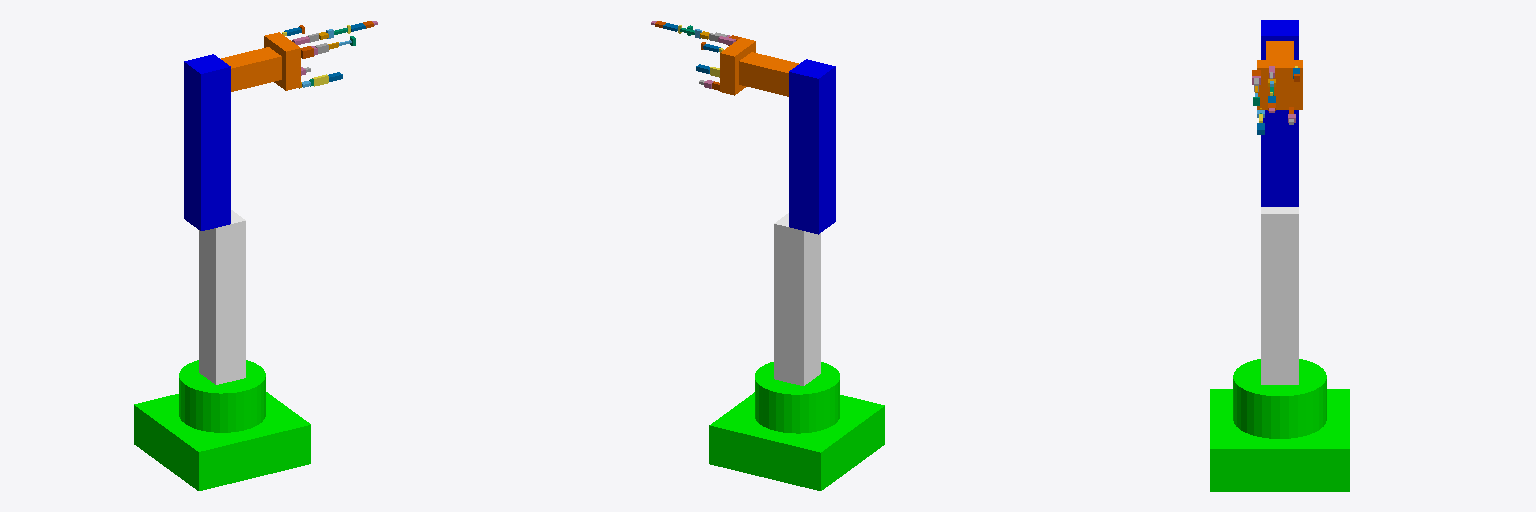
robot.urdf — robot:
<?xml version='1.0' encoding='utf-8'?>
<robot name="robot">
  <link name="base_link">
    <visual>
      <origin xyz="0 0 0.125" rpy="0 0 0" />
      <geometry>
        <box size="0.75 0.75 0.25" />
      </geometry>
      <material name="green" />
    </visual>
    <visual>
      <origin xyz="0 0 0.375" rpy="0 0 0" />
      <geometry>
        <cylinder length="0.25" radius="0.25" />
      </geometry>
      <material name="green">
        <color rgba="0 1 0 1" />
      </material>
    </visual>
    <collision>
      <geometry>
        <box size="0.75 0.75 0.5" />
      </geometry>
    </collision>
    <inertial>
      <mass value="0.5" />
      <inertia ixx="0.034" ixy="0.0" ixz="0.0" iyy="0.034" iyz="0.0" izz="0.034" />
    </inertial>
  </link>
  <link name="support_link">
    <visual>
      <origin xyz="0 0 0.5" rpy="0 0 0" />
      <geometry>
        <box size="0.2 0.2 1" />
      </geometry>
      <material name="white">
        <color rgba="1 1 1 1" />
      </material>
    </visual>
    <collision>
      <geometry>
        <box size="0.2 0.2 1" />
      </geometry>
    </collision>
    <inertial>
      <mass value="0.1" />
      <inertia ixx="0.01" ixy="0.0" ixz="0.0" iyy="0.01" iyz="0.0" izz="0.01" />
    </inertial>
  </link>
  <joint name="support_joint" type="continuous">
    <origin xyz="0 0 0.5" rpy="0 0 0" />
    <parent link="base_link" />
    <child link="support_link" />
    <axis xyz="0 0 1" />
  </joint>
  <link name="arm_link">
    <visual>
      <origin xyz="0 0 0.5" rpy="0 0 0" />
      <geometry>
        <box size="0.2 0.2 1" />
      </geometry>
      <material name="blue">
        <color rgba="0 0 1 1" />
      </material>
    </visual>
    <collision>
      <geometry>
        <box size="0.2 0.2 1" />
      </geometry>
    </collision>
    <inertial>
      <mass value="0.1" />
      <inertia ixx="0.01" ixy="0.0" ixz="0.0" iyy="0.01" iyz="0.0" izz="0.01" />
    </inertial>
  </link>
  <joint name="arm_joint" type="revolute">
    <origin xyz="-0.1 0 1" rpy="0 0 0" />
    <parent link="support_link" />
    <child link="arm_link" />
    <axis xyz="0 1 0" />
    <limit lower="-3.14" upper="3.14" effort="1.0" velocity="1.0" />
  </joint>
  <link name="wrist_link">
    <visual>
      <origin xyz="0 0 0.25" rpy="0 0 0" />
      <geometry>
        <box size="0.15 0.15 0.5" />
      </geometry>
      <material name="orange">
        <color rgba="1 0.5 0 1" />
      </material>
    </visual>
    <collision>
      <geometry>
        <box size="0.15 0.15 0.5" />
      </geometry>
    </collision>
    <inertial>
      <mass value="0.1" />
      <inertia ixx="0.01" ixy="0.0" ixz="0.0" iyy="0.01" iyz="0.0" izz="0.01" />
    </inertial>
  </link>
  <joint name="wrist_joint" type="fixed">
    <origin xyz="0 0 0.9" rpy="0 1.571 0" />
    <parent link="arm_link" />
    <child link="wrist_link" />
  </joint>
  <link name="palm_link">
    <visual>
      <origin xyz="0 0 0.05" rpy="0 0 0" />
      <geometry>
        <box size="0.25 0.25 0.1" />
      </geometry>
      <material name="orange" />
    </visual>
    <collision>
      <geometry>
        <box size="0.25 0.25 0.1" />
      </geometry>
    </collision>
    <inertial>
      <mass value="0.1" />
      <inertia ixx="0.01" ixy="0.0" ixz="0.0" iyy="0.01" iyz="0.0" izz="0.01" />
    </inertial>
  </link>
  <joint name="palm_joint" type="fixed">
    <origin xyz="0 0 0.45" rpy="0 0 0" />
    <parent link="wrist_link" />
    <child link="palm_link" />
  </joint>
  <link name="finger_link_0_0">
    <visual>
      <origin xyz="0 0 0.0405" rpy="0 0 0" />
      <geometry>
        <box size="0.038 0.026 0.081" />
      </geometry>
    </visual>
    <collision>
      <geometry>
        <box size="0.038 0.026 0.081" />
      </geometry>
    </collision>
    <inertial>
      <mass value="0.024" />
      <inertia ixx="0.0" iyy="0.0" izz="0.0" ixy="0" ixz="0" iyz="0" />
    </inertial>
  </link>
  <joint name="finger_joint_palm_link_to_finger_link_0_0" type="revolute">
    <origin xyz="0.125 0.063 0.1" rpy="0 0 0" />
    <parent link="palm_link" />
    <child link="finger_link_0_0" />
    <axis xyz="0.0 1.0 0.0" />
    <limit lower="-3.142" upper="3.142" effort="10" velocity="10" />
  </joint>
  <link name="finger_link_0_1">
    <visual>
      <origin xyz="0 0 0.024" rpy="0 0 0" />
      <geometry>
        <box size="0.03 0.046 0.048" />
      </geometry>
    </visual>
    <collision>
      <geometry>
        <box size="0.03 0.046 0.048" />
      </geometry>
    </collision>
    <inertial>
      <mass value="0.02" />
      <inertia ixx="0.0" iyy="0.0" izz="0.0" ixy="0" ixz="0" iyz="0" />
    </inertial>
  </link>
  <joint name="finger_joint_finger_link_0_0_to_finger_link_0_1" type="revolute">
    <origin xyz="0.0 0.0 0.081" rpy="0 0 0" />
    <parent link="finger_link_0_0" />
    <child link="finger_link_0_1" />
    <axis xyz="0.0 1.0 0.0" />
    <limit lower="-3.142" upper="3.142" effort="10" velocity="10" />
  </joint>
  <link name="finger_link_0_2">
    <visual>
      <origin xyz="0 0 0.0195" rpy="0 0 0" />
      <geometry>
        <box size="0.017 0.026 0.039" />
      </geometry>
    </visual>
    <collision>
      <geometry>
        <box size="0.017 0.026 0.039" />
      </geometry>
    </collision>
    <inertial>
      <mass value="0.005" />
      <inertia ixx="0.0" iyy="0.0" izz="0.0" ixy="0" ixz="0" iyz="0" />
    </inertial>
  </link>
  <joint name="finger_joint_finger_link_0_1_to_finger_link_0_2" type="revolute">
    <origin xyz="0.0 0.0 0.048" rpy="0 0 0" />
    <parent link="finger_link_0_1" />
    <child link="finger_link_0_2" />
    <axis xyz="1.0 0.0 0.0" />
    <limit lower="-3.142" upper="3.142" effort="10" velocity="10" />
  </joint>
  <link name="finger_link_1_0">
    <visual>
      <origin xyz="0 0 0.0095" rpy="0 0 0" />
      <geometry>
        <box size="0.032 0.013 0.019" />
      </geometry>
    </visual>
    <collision>
      <geometry>
        <box size="0.032 0.013 0.019" />
      </geometry>
    </collision>
    <inertial>
      <mass value="0.002" />
      <inertia ixx="0.0" iyy="0.0" izz="0.0" ixy="0" ixz="0" iyz="0" />
    </inertial>
  </link>
  <joint name="finger_joint_palm_link_to_finger_link_1_0" type="revolute">
    <origin xyz="0.125 -0.101 0.1" rpy="0 0 0" />
    <parent link="palm_link" />
    <child link="finger_link_1_0" />
    <axis xyz="0.0 1.0 0.0" />
    <limit lower="-3.142" upper="3.142" effort="10" velocity="10" />
  </joint>
  <link name="finger_link_1_1">
    <visual>
      <origin xyz="0 0 0.0265" rpy="0 0 0" />
      <geometry>
        <box size="0.019 0.039 0.053" />
      </geometry>
    </visual>
    <collision>
      <geometry>
        <box size="0.019 0.039 0.053" />
      </geometry>
    </collision>
    <inertial>
      <mass value="0.012" />
      <inertia ixx="0.0" iyy="0.0" izz="0.0" ixy="0" ixz="0" iyz="0" />
    </inertial>
  </link>
  <joint name="finger_joint_finger_link_1_0_to_finger_link_1_1" type="revolute">
    <origin xyz="0.0 0.0 0.019" rpy="0 0 0" />
    <parent link="finger_link_1_0" />
    <child link="finger_link_1_1" />
    <axis xyz="0.0 1.0 0.0" />
    <limit lower="-3.142" upper="3.142" effort="10" velocity="10" />
  </joint>
  <link name="finger_link_1_2">
    <visual>
      <origin xyz="0 0 0.012" rpy="0 0 0" />
      <geometry>
        <box size="0.041 0.011 0.024" />
      </geometry>
    </visual>
    <collision>
      <geometry>
        <box size="0.041 0.011 0.024" />
      </geometry>
    </collision>
    <inertial>
      <mass value="0.003" />
      <inertia ixx="0.0" iyy="0.0" izz="0.0" ixy="0" ixz="0" iyz="0" />
    </inertial>
  </link>
  <joint name="finger_joint_finger_link_1_1_to_finger_link_1_2" type="revolute">
    <origin xyz="0.0 0.0 0.053" rpy="0 0 0" />
    <parent link="finger_link_1_1" />
    <child link="finger_link_1_2" />
    <axis xyz="0.0 1.0 0.0" />
    <limit lower="-3.142" upper="3.142" effort="10" velocity="10" />
  </joint>
  <link name="finger_link_1_3">
    <visual>
      <origin xyz="0 0 0.0475" rpy="0 0 0" />
      <geometry>
        <box size="0.048 0.022 0.095" />
      </geometry>
    </visual>
    <collision>
      <geometry>
        <box size="0.048 0.022 0.095" />
      </geometry>
    </collision>
    <inertial>
      <mass value="0.03" />
      <inertia ixx="0.0" iyy="0.0" izz="0.0" ixy="0" ixz="0" iyz="0" />
    </inertial>
  </link>
  <joint name="finger_joint_finger_link_1_2_to_finger_link_1_3" type="revolute">
    <origin xyz="0.0 0.0 0.024" rpy="0 0 0" />
    <parent link="finger_link_1_2" />
    <child link="finger_link_1_3" />
    <axis xyz="1.0 0.0 0.0" />
    <limit lower="-3.142" upper="3.142" effort="10" velocity="10" />
  </joint>
  <link name="finger_link_1_4">
    <visual>
      <origin xyz="0 0 0.044" rpy="0 0 0" />
      <geometry>
        <box size="0.029 0.039 0.088" />
      </geometry>
    </visual>
    <collision>
      <geometry>
        <box size="0.029 0.039 0.088" />
      </geometry>
    </collision>
    <inertial>
      <mass value="0.03" />
      <inertia ixx="0.0" iyy="0.0" izz="0.0" ixy="0" ixz="0" iyz="0" />
    </inertial>
  </link>
  <joint name="finger_joint_finger_link_1_3_to_finger_link_1_4" type="revolute">
    <origin xyz="0.0 0.0 0.095" rpy="0 0 0" />
    <parent link="finger_link_1_3" />
    <child link="finger_link_1_4" />
    <axis xyz="0.0 1.0 0.0" />
    <limit lower="-3.142" upper="3.142" effort="10" velocity="10" />
  </joint>
  <link name="finger_link_2_0">
    <visual>
      <origin xyz="0 0 0.0365" rpy="0 0 0" />
      <geometry>
        <box size="0.049 0.046 0.073" />
      </geometry>
    </visual>
    <collision>
      <geometry>
        <box size="0.049 0.046 0.073" />
      </geometry>
    </collision>
    <inertial>
      <mass value="0.049" />
      <inertia ixx="0.0" iyy="0.0" izz="0.0" ixy="0" ixz="0" iyz="0" />
    </inertial>
  </link>
  <joint name="finger_joint_palm_link_to_finger_link_2_0" type="revolute">
    <origin xyz="-0.088 -0.125 0.1" rpy="0 0 0" />
    <parent link="palm_link" />
    <child link="finger_link_2_0" />
    <axis xyz="1.0 0.0 0.0" />
    <limit lower="-3.142" upper="3.142" effort="10" velocity="10" />
  </joint>
  <link name="finger_link_2_1">
    <visual>
      <origin xyz="0 0 0.0125" rpy="0 0 0" />
      <geometry>
        <box size="0.041 0.043 0.025" />
      </geometry>
    </visual>
    <collision>
      <geometry>
        <box size="0.041 0.043 0.025" />
      </geometry>
    </collision>
    <inertial>
      <mass value="0.013" />
      <inertia ixx="0.0" iyy="0.0" izz="0.0" ixy="0" ixz="0" iyz="0" />
    </inertial>
  </link>
  <joint name="finger_joint_finger_link_2_0_to_finger_link_2_1" type="revolute">
    <origin xyz="0.0 0.0 0.073" rpy="0 0 0" />
    <parent link="finger_link_2_0" />
    <child link="finger_link_2_1" />
    <axis xyz="0.0 1.0 0.0" />
    <limit lower="-3.142" upper="3.142" effort="10" velocity="10" />
  </joint>
  <link name="finger_link_2_2">
    <visual>
      <origin xyz="0 0 0.0385" rpy="0 0 0" />
      <geometry>
        <box size="0.045 0.029 0.077" />
      </geometry>
    </visual>
    <collision>
      <geometry>
        <box size="0.045 0.029 0.077" />
      </geometry>
    </collision>
    <inertial>
      <mass value="0.03" />
      <inertia ixx="0.0" iyy="0.0" izz="0.0" ixy="0" ixz="0" iyz="0" />
    </inertial>
  </link>
  <joint name="finger_joint_finger_link_2_1_to_finger_link_2_2" type="revolute">
    <origin xyz="0.0 0.0 0.025" rpy="0 0 0" />
    <parent link="finger_link_2_1" />
    <child link="finger_link_2_2" />
    <axis xyz="0.0 1.0 0.0" />
    <limit lower="-3.142" upper="3.142" effort="10" velocity="10" />
  </joint>
  <link name="finger_link_2_3">
    <visual>
      <origin xyz="0 0 0.038" rpy="0 0 0" />
      <geometry>
        <box size="0.029 0.012 0.076" />
      </geometry>
    </visual>
    <collision>
      <geometry>
        <box size="0.029 0.012 0.076" />
      </geometry>
    </collision>
    <inertial>
      <mass value="0.008" />
      <inertia ixx="0.0" iyy="0.0" izz="0.0" ixy="0" ixz="0" iyz="0" />
    </inertial>
  </link>
  <joint name="finger_joint_finger_link_2_2_to_finger_link_2_3" type="revolute">
    <origin xyz="0.0 0.0 0.077" rpy="0 0 0" />
    <parent link="finger_link_2_2" />
    <child link="finger_link_2_3" />
    <axis xyz="1.0 0.0 0.0" />
    <limit lower="-3.142" upper="3.142" effort="10" velocity="10" />
  </joint>
  <link name="finger_link_2_4">
    <visual>
      <origin xyz="0 0 0.0415" rpy="0 0 0" />
      <geometry>
        <box size="0.014 0.014 0.083" />
      </geometry>
    </visual>
    <collision>
      <geometry>
        <box size="0.014 0.014 0.083" />
      </geometry>
    </collision>
    <inertial>
      <mass value="0.005" />
      <inertia ixx="0.0" iyy="0.0" izz="0.0" ixy="0" ixz="0" iyz="0" />
    </inertial>
  </link>
  <joint name="finger_joint_finger_link_2_3_to_finger_link_2_4" type="revolute">
    <origin xyz="0.0 0.0 0.076" rpy="0 0 0" />
    <parent link="finger_link_2_3" />
    <child link="finger_link_2_4" />
    <axis xyz="1.0 0.0 0.0" />
    <limit lower="-3.142" upper="3.142" effort="10" velocity="10" />
  </joint>
  <link name="finger_link_2_5">
    <visual>
      <origin xyz="0 0 0.011" rpy="0 0 0" />
      <geometry>
        <box size="0.048 0.038 0.022" />
      </geometry>
    </visual>
    <collision>
      <geometry>
        <box size="0.048 0.038 0.022" />
      </geometry>
    </collision>
    <inertial>
      <mass value="0.012" />
      <inertia ixx="0.0" iyy="0.0" izz="0.0" ixy="0" ixz="0" iyz="0" />
    </inertial>
  </link>
  <joint name="finger_joint_finger_link_2_4_to_finger_link_2_5" type="revolute">
    <origin xyz="0.0 0.0 0.083" rpy="0 0 0" />
    <parent link="finger_link_2_4" />
    <child link="finger_link_2_5" />
    <axis xyz="0.0 1.0 0.0" />
    <limit lower="-3.142" upper="3.142" effort="10" velocity="10" />
  </joint>
  <link name="finger_link_3_0">
    <visual>
      <origin xyz="0 0 0.0115" rpy="0 0 0" />
      <geometry>
        <box size="0.02 0.019 0.023" />
      </geometry>
    </visual>
    <collision>
      <geometry>
        <box size="0.02 0.019 0.023" />
      </geometry>
    </collision>
    <inertial>
      <mass value="0.003" />
      <inertia ixx="0.0" iyy="0.0" izz="0.0" ixy="0" ixz="0" iyz="0" />
    </inertial>
  </link>
  <joint name="finger_joint_palm_link_to_finger_link_3_0" type="revolute">
    <origin xyz="-0.125 0.089 0.1" rpy="0 0 0" />
    <parent link="palm_link" />
    <child link="finger_link_3_0" />
    <axis xyz="0.0 -1.0 0.0" />
    <limit lower="-3.142" upper="3.142" effort="10" velocity="10" />
  </joint>
  <link name="finger_link_3_1">
    <visual>
      <origin xyz="0 0 0.0495" rpy="0 0 0" />
      <geometry>
        <box size="0.022 0.035 0.099" />
      </geometry>
    </visual>
    <collision>
      <geometry>
        <box size="0.022 0.035 0.099" />
      </geometry>
    </collision>
    <inertial>
      <mass value="0.023" />
      <inertia ixx="0.0" iyy="0.0" izz="0.0" ixy="0" ixz="0" iyz="0" />
    </inertial>
  </link>
  <joint name="finger_joint_finger_link_3_0_to_finger_link_3_1" type="revolute">
    <origin xyz="0.0 0.0 0.023" rpy="0 0 0" />
    <parent link="finger_link_3_0" />
    <child link="finger_link_3_1" />
    <axis xyz="1.0 1.0 0.0" />
    <limit lower="-3.142" upper="3.142" effort="10" velocity="10" />
  </joint>
  <link name="finger_link_3_2">
    <visual>
      <origin xyz="0 0 0.009" rpy="0 0 0" />
      <geometry>
        <box size="0.039 0.034 0.018" />
      </geometry>
    </visual>
    <collision>
      <geometry>
        <box size="0.039 0.034 0.018" />
      </geometry>
    </collision>
    <inertial>
      <mass value="0.007" />
      <inertia ixx="0.0" iyy="0.0" izz="0.0" ixy="0" ixz="0" iyz="0" />
    </inertial>
  </link>
  <joint name="finger_joint_finger_link_3_1_to_finger_link_3_2" type="revolute">
    <origin xyz="0.0 0.0 0.099" rpy="0 0 0" />
    <parent link="finger_link_3_1" />
    <child link="finger_link_3_2" />
    <axis xyz="0.0 1.0 0.0" />
    <limit lower="-3.142" upper="3.142" effort="10" velocity="10" />
  </joint>
  <link name="finger_link_4_0">
    <visual>
      <origin xyz="0 0 0.0485" rpy="0 0 0" />
      <geometry>
        <box size="0.026 0.033 0.097" />
      </geometry>
    </visual>
    <collision>
      <geometry>
        <box size="0.026 0.033 0.097" />
      </geometry>
    </collision>
    <inertial>
      <mass value="0.025" />
      <inertia ixx="0.0" iyy="0.0" izz="0.0" ixy="0" ixz="0" iyz="0" />
    </inertial>
  </link>
  <joint name="finger_joint_palm_link_to_finger_link_4_0" type="revolute">
    <origin xyz="-0.125 -0.043 0.1" rpy="0 0 0" />
    <parent link="palm_link" />
    <child link="finger_link_4_0" />
    <axis xyz="0.0 -1.0 0.0" />
    <limit lower="-3.142" upper="3.142" effort="10" velocity="10" />
  </joint>
  <link name="finger_link_4_1">
    <visual>
      <origin xyz="0 0 0.034" rpy="0 0 0" />
      <geometry>
        <box size="0.04 0.016 0.068" />
      </geometry>
    </visual>
    <collision>
      <geometry>
        <box size="0.04 0.016 0.068" />
      </geometry>
    </collision>
    <inertial>
      <mass value="0.013" />
      <inertia ixx="0.0" iyy="0.0" izz="0.0" ixy="0" ixz="0" iyz="0" />
    </inertial>
  </link>
  <joint name="finger_joint_finger_link_4_0_to_finger_link_4_1" type="revolute">
    <origin xyz="0.0 0.0 0.097" rpy="0 0 0" />
    <parent link="finger_link_4_0" />
    <child link="finger_link_4_1" />
    <axis xyz="1.0 1.0 0.0" />
    <limit lower="-3.142" upper="3.142" effort="10" velocity="10" />
  </joint>
  <link name="finger_link_4_2">
    <visual>
      <origin xyz="0 0 0.0275" rpy="0 0 0" />
      <geometry>
        <box size="0.023 0.046 0.055" />
      </geometry>
    </visual>
    <collision>
      <geometry>
        <box size="0.023 0.046 0.055" />
      </geometry>
    </collision>
    <inertial>
      <mass value="0.017" />
      <inertia ixx="0.0" iyy="0.0" izz="0.0" ixy="0" ixz="0" iyz="0" />
    </inertial>
  </link>
  <joint name="finger_joint_finger_link_4_1_to_finger_link_4_2" type="revolute">
    <origin xyz="0.0 0.0 0.068" rpy="0 0 0" />
    <parent link="finger_link_4_1" />
    <child link="finger_link_4_2" />
    <axis xyz="0.0 1.0 0.0" />
    <limit lower="-3.142" upper="3.142" effort="10" velocity="10" />
  </joint>
  <link name="finger_link_4_3">
    <visual>
      <origin xyz="0 0 0.02" rpy="0 0 0" />
      <geometry>
        <box size="0.049 0.02 0.04" />
      </geometry>
    </visual>
    <collision>
      <geometry>
        <box size="0.049 0.02 0.04" />
      </geometry>
    </collision>
    <inertial>
      <mass value="0.012" />
      <inertia ixx="0.0" iyy="0.0" izz="0.0" ixy="0" ixz="0" iyz="0" />
    </inertial>
  </link>
  <joint name="finger_joint_finger_link_4_2_to_finger_link_4_3" type="revolute">
    <origin xyz="0.0 0.0 0.055" rpy="0 0 0" />
    <parent link="finger_link_4_2" />
    <child link="finger_link_4_3" />
    <axis xyz="1.0 0.0 0.0" />
    <limit lower="-3.142" upper="3.142" effort="10" velocity="10" />
  </joint>
  <link name="finger_link_4_4">
    <visual>
      <origin xyz="0 0 0.048" rpy="0 0 0" />
      <geometry>
        <box size="0.017 0.024 0.096" />
      </geometry>
    </visual>
    <collision>
      <geometry>
        <box size="0.017 0.024 0.096" />
      </geometry>
    </collision>
    <inertial>
      <mass value="0.012" />
      <inertia ixx="0.0" iyy="0.0" izz="0.0" ixy="0" ixz="0" iyz="0" />
    </inertial>
  </link>
  <joint name="finger_joint_finger_link_4_3_to_finger_link_4_4" type="revolute">
    <origin xyz="0.0 0.0 0.04" rpy="0 0 0" />
    <parent link="finger_link_4_3" />
    <child link="finger_link_4_4" />
    <axis xyz="0.0 1.0 0.0" />
    <limit lower="-3.142" upper="3.142" effort="10" velocity="10" />
  </joint>
  <link name="finger_link_4_5">
    <visual>
      <origin xyz="0 0 0.0085" rpy="0 0 0" />
      <geometry>
        <box size="0.047 0.016 0.017" />
      </geometry>
    </visual>
    <collision>
      <geometry>
        <box size="0.047 0.016 0.017" />
      </geometry>
    </collision>
    <inertial>
      <mass value="0.004" />
      <inertia ixx="0.0" iyy="0.0" izz="0.0" ixy="0" ixz="0" iyz="0" />
    </inertial>
  </link>
  <joint name="finger_joint_finger_link_4_4_to_finger_link_4_5" type="revolute">
    <origin xyz="0.0 0.0 0.096" rpy="0 0 0" />
    <parent link="finger_link_4_4" />
    <child link="finger_link_4_5" />
    <axis xyz="1.0 1.0 0.0" />
    <limit lower="-3.142" upper="3.142" effort="10" velocity="10" />
  </joint>
  <link name="finger_link_4_6">
    <visual>
      <origin xyz="0 0 0.0455" rpy="0 0 0" />
      <geometry>
        <box size="0.019 0.044 0.091" />
      </geometry>
    </visual>
    <collision>
      <geometry>
        <box size="0.019 0.044 0.091" />
      </geometry>
    </collision>
    <inertial>
      <mass value="0.023" />
      <inertia ixx="0.0" iyy="0.0" izz="0.0" ixy="0" ixz="0" iyz="0" />
    </inertial>
  </link>
  <joint name="finger_joint_finger_link_4_5_to_finger_link_4_6" type="revolute">
    <origin xyz="0.0 0.0 0.017" rpy="0 0 0" />
    <parent link="finger_link_4_5" />
    <child link="finger_link_4_6" />
    <axis xyz="0.0 1.0 0.0" />
    <limit lower="-3.142" upper="3.142" effort="10" velocity="10" />
  </joint>
  <link name="finger_link_4_7">
    <visual>
      <origin xyz="0 0 0.0295" rpy="0 0 0" />
      <geometry>
        <box size="0.02 0.044 0.059" />
      </geometry>
    </visual>
    <collision>
      <geometry>
        <box size="0.02 0.044 0.059" />
      </geometry>
    </collision>
    <inertial>
      <mass value="0.016" />
      <inertia ixx="0.0" iyy="0.0" izz="0.0" ixy="0" ixz="0" iyz="0" />
    </inertial>
  </link>
  <joint name="finger_joint_finger_link_4_6_to_finger_link_4_7" type="revolute">
    <origin xyz="0.0 0.0 0.091" rpy="0 0 0" />
    <parent link="finger_link_4_6" />
    <child link="finger_link_4_7" />
    <axis xyz="0.0 1.0 0.0" />
    <limit lower="-3.142" upper="3.142" effort="10" velocity="10" />
  </joint>
  <link name="finger_link_4_8">
    <visual>
      <origin xyz="0 0 0.0145" rpy="0 0 0" />
      <geometry>
        <box size="0.012 0.035 0.029" />
      </geometry>
    </visual>
    <collision>
      <geometry>
        <box size="0.012 0.035 0.029" />
      </geometry>
    </collision>
    <inertial>
      <mass value="0.004" />
      <inertia ixx="0.0" iyy="0.0" izz="0.0" ixy="0" ixz="0" iyz="0" />
    </inertial>
  </link>
  <joint name="finger_joint_finger_link_4_7_to_finger_link_4_8" type="revolute">
    <origin xyz="0.0 0.0 0.059" rpy="0 0 0" />
    <parent link="finger_link_4_7" />
    <child link="finger_link_4_8" />
    <axis xyz="1.0 1.0 0.0" />
    <limit lower="-3.142" upper="3.142" effort="10" velocity="10" />
  </joint>
</robot>

--- Render facts (derived) ---
3 views of the same robot in one strip: view 1: azimuth 30°, elevation 25°; view 2: azimuth 150°, elevation 25°; view 3: azimuth 270°, elevation 25° (orthographic).
Model robot with 31 links and 30 joints (27 revolute, 1 continuous, 2 fixed), rooted at base_link, posed every joint at zero.
Links seen in each view (by area): view 1: base_link, arm_link, support_link, wrist_link, palm_link; view 2: base_link, arm_link, support_link, wrist_link, palm_link; view 3: base_link, support_link, arm_link, palm_link, wrist_link.
Boxes of the visible links, x1,y1,x2,y2 form: base_link: (134, 360, 310, 490); arm_link: (184, 54, 230, 230); support_link: (199, 210, 245, 384); wrist_link: (221, 47, 281, 91); palm_link: (264, 32, 300, 90); base_link: (709, 362, 884, 490); arm_link: (789, 59, 835, 234); support_link: (774, 213, 820, 385); wrist_link: (739, 52, 798, 96); palm_link: (720, 37, 755, 95); base_link: (1210, 359, 1349, 491); support_link: (1261, 207, 1298, 384); arm_link: (1261, 20, 1298, 206); palm_link: (1257, 60, 1302, 109); wrist_link: (1266, 41, 1293, 59).
Size in the robot's own frame: 1.38 by 0.75 by 2.55 metres.
Geometry: primitives only (box / cylinder / sphere), no mesh files.